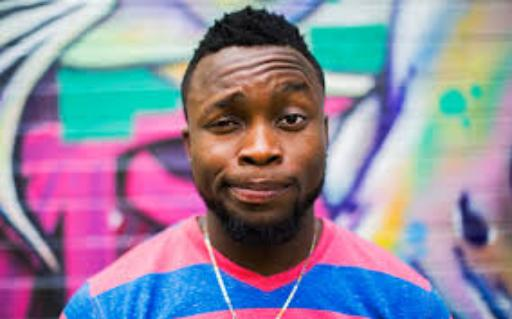left_eye: (279, 114, 312, 128)
left_lip_corner: (285, 182, 301, 192)
right_eye: (206, 119, 244, 131)
right_lip_corner: (219, 180, 237, 193)
